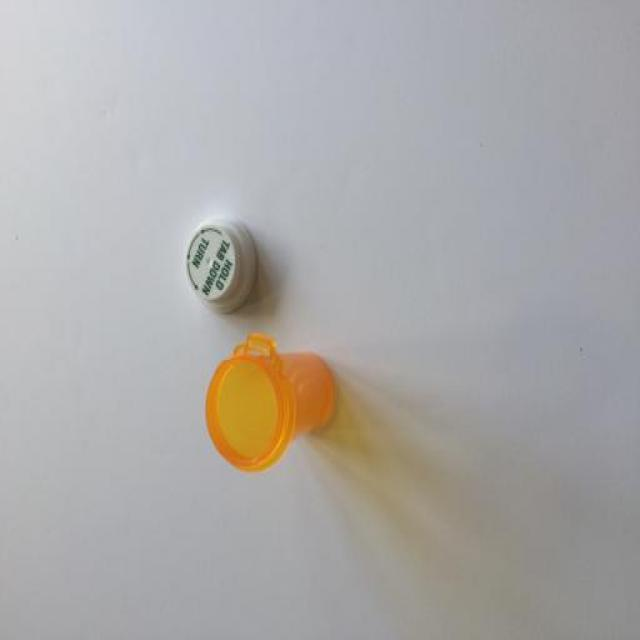plastic_bottle: (161, 202, 377, 522)
